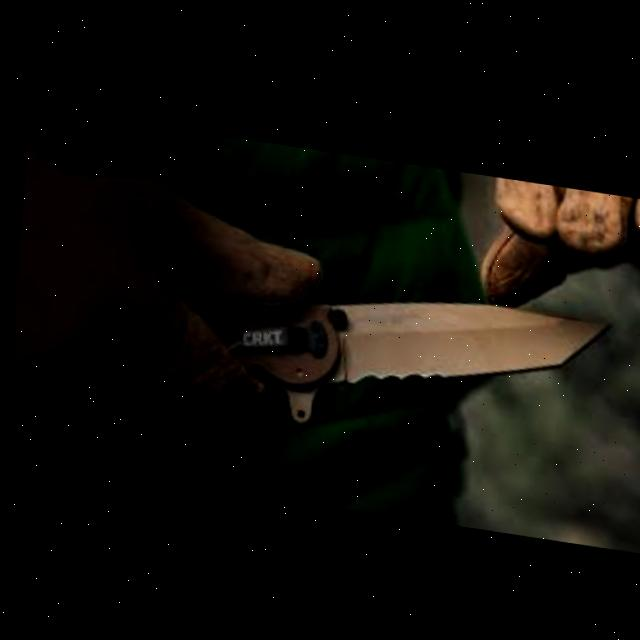knife: (175, 254, 615, 467)
